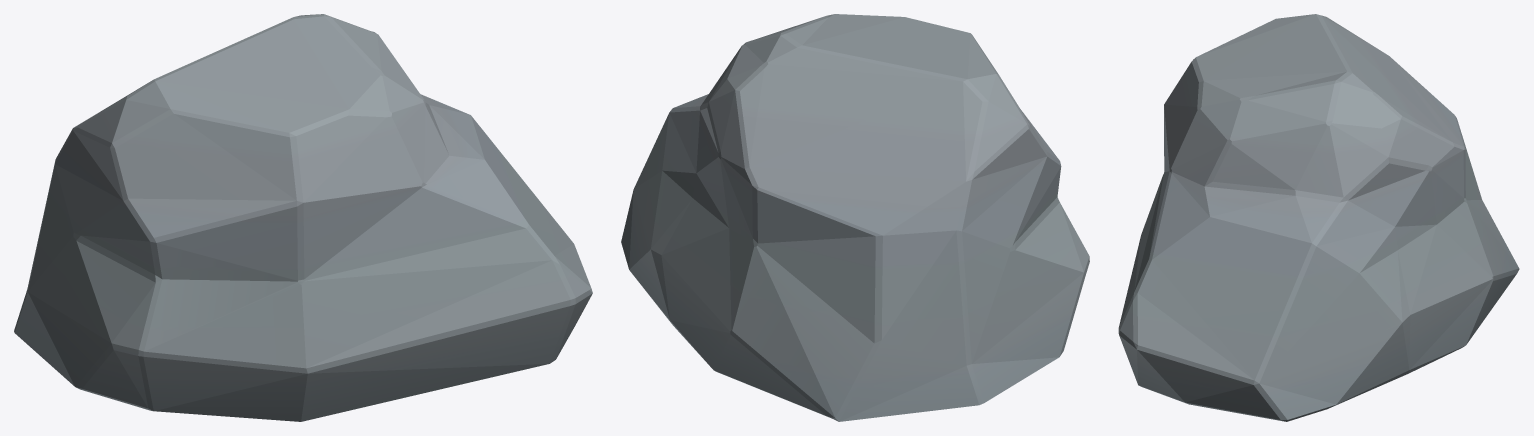
File: rock_boulder.glb
The picture shows the model from 3 angles, left to right: view 1: azimuth 30°, elevation 25°; view 2: azimuth 150°, elevation 25°; view 3: azimuth 270°, elevation 25°; orthographic projection. The views are drawn at different scales.
Visible parts, largest first — view 1: Rock_10_1_A; view 2: Rock_10_1_A; view 3: Rock_10_1_A.
Part boxes in pixels (x1,y1,x2,y2): Rock_10_1_A: (14, 14, 592, 421); Rock_10_1_A: (621, 14, 1089, 421); Rock_10_1_A: (1118, 14, 1519, 421).
Size of the model in its own units: 1.88 by 1.16 by 1.57.
Materials: 1 (1 with a texture image).
